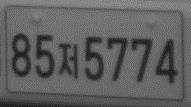4: (153, 37, 178, 87)
5: (33, 33, 55, 79), (83, 35, 104, 82)
7: (105, 36, 132, 83), (130, 35, 152, 84)
8: (11, 33, 31, 77)
저: (56, 41, 79, 81)
